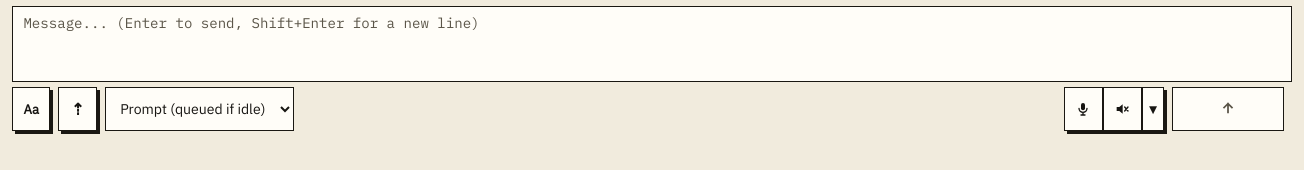
engines › falls back to built-in when Deepgram refuses, and says why
Press the mouse on the button named "Voice input" at (1083, 109), box 1064,87 -> 1103,131
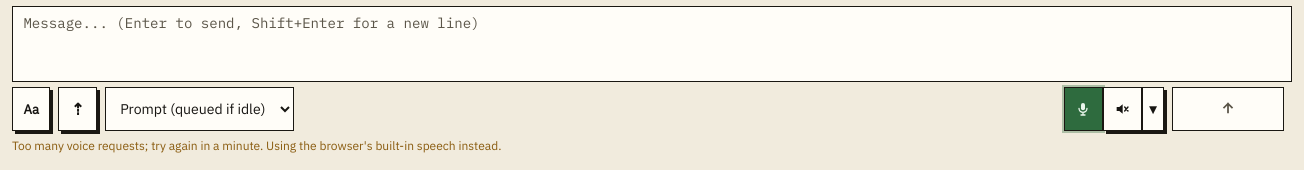
Expected: the message shows "built-in", 12,138 -> 501,153
